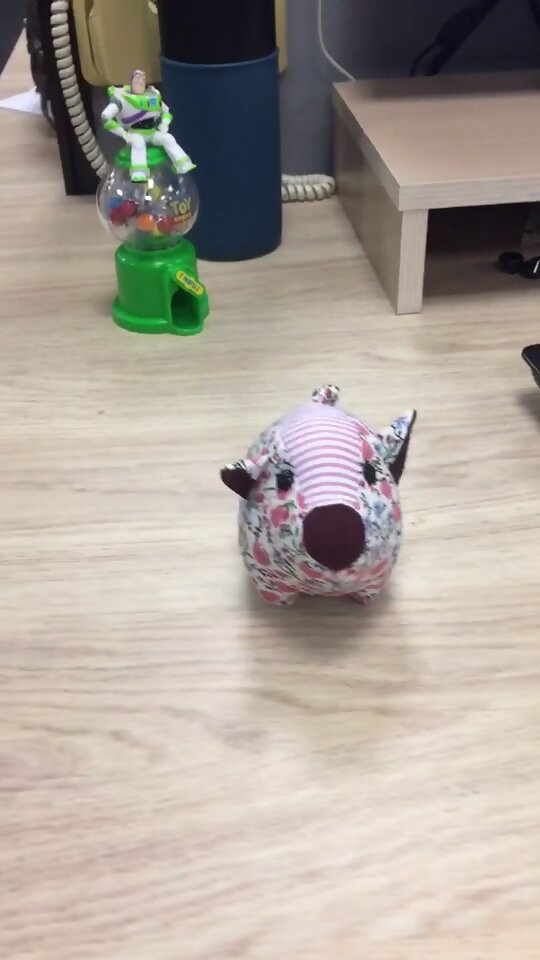pig: (216, 382, 421, 609)
